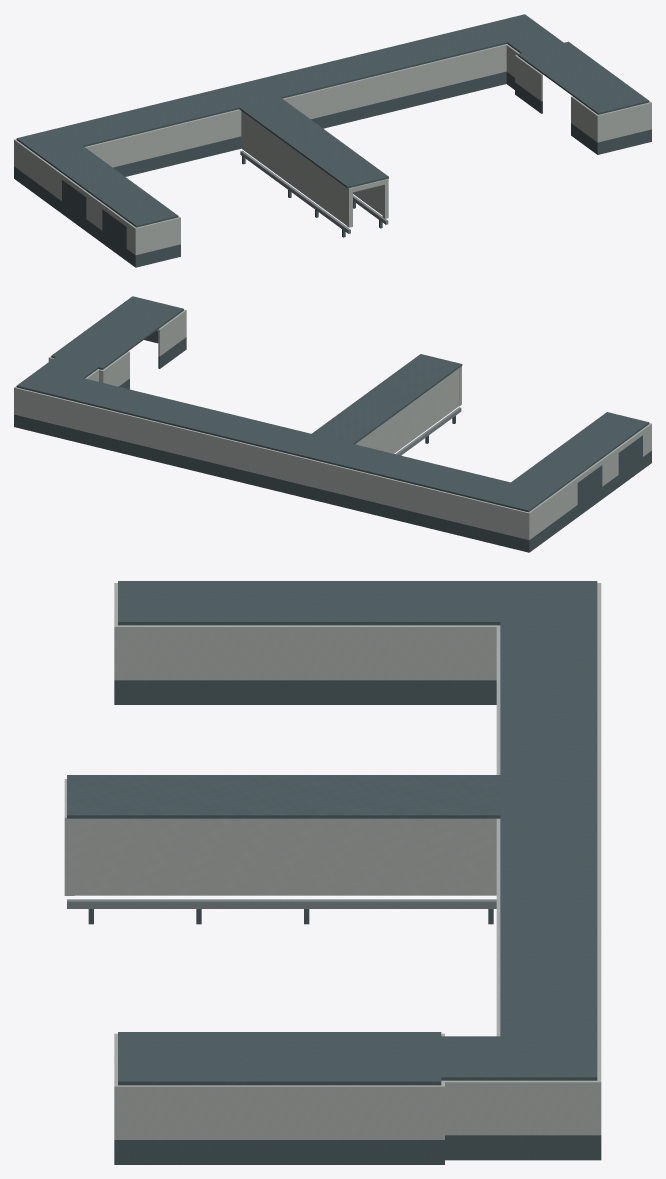
The model's file is AST-RES-TIDAL_D16_guarded_shaft_receiving_r001.glb.
3 renders of one model, top to bottom at view 1: azimuth 30°, elevation 25°; view 2: azimuth 150°, elevation 25°; view 3: azimuth 270°, elevation 25°, orthographic. The views are drawn at different scales.
Visible parts, largest first — view 1: D16_LinkRoof, D16_LinkWall_West, TidalStaffRoof_D16_-3_-62_0, TidalStaffRoof_D16_-8_-63_0, TidalStaffWallHigh_D16_-7_-63_0, TidalStaffWallHigh_D16_-5_-63_0, TidalStaffWallHigh_D16_-4_-63_0, TidalStaffRoof_D16_-7_-63_0, TidalStaffRoof_D16_-5_-63_0, TidalStaffRoof_D16_-4_-63_0, TidalStaffRoof_D16_-6_-63_0, TidalStaffRoof_D16_-8_-62_0 (+21 smaller); view 2: D16_LinkRoof, TidalStaffWallHigh_D16_-8_-63_1, D16_LinkWall_West, TidalStaffRoof_D16_-3_-62_0, TidalStaffRoof_D16_-8_-63_0, TidalStaffWallHigh_D16_-5_-63_1, TidalStaffWallHigh_D16_-4_-63_1, TidalStaffWallHigh_D16_-7_-63_1, screen_wall_staff_white_paint_D16_-6_-63, TidalStaffRoof_D16_-5_-63_0, TidalStaffRoof_D16_-6_-63_0, TidalStaffRoof_D16_-7_-63_0 (+19 smaller); view 3: D16_LinkWall_East, D16_LinkRoof, TidalStaffWallHigh_D16_-8_-62_0, TidalStaffWallHigh_D16_-3_-62_1, TidalStaffRoof_D16_-3_-62_0, TidalStaffRoof_D16_-8_-63_0, TidalStaffRoof_D16_-8_-62_0, TidalStaffWallHigh_D16_-3_-63_1, TidalStaffRoof_D16_-7_-63_0, TidalStaffRoof_D16_-6_-63_0, TidalStaffRoof_D16_-5_-63_0, TidalStaffRoof_D16_-4_-63_0 (+13 smaller).
Part boxes in pixels (x1,y1,x2,y2): D16_LinkRoof: [239, 97, 388, 188]; D16_LinkWall_West: [241, 111, 346, 225]; TidalStaffRoof_D16_-3_-62_0: [517, 41, 621, 94]; TidalStaffRoof_D16_-8_-63_0: [16, 119, 119, 168]; TidalStaffWallHigh_D16_-7_-63_0: [120, 115, 214, 165]; TidalStaffWallHigh_D16_-5_-63_0: [307, 70, 400, 119]; TidalStaffWallHigh_D16_-4_-63_0: [400, 47, 493, 97]; TidalStaffRoof_D16_-7_-63_0: [96, 96, 213, 138]; TidalStaffRoof_D16_-5_-63_0: [283, 50, 399, 92]; TidalStaffRoof_D16_-4_-63_0: [376, 28, 493, 69]; TidalStaffRoof_D16_-6_-63_0: [189, 73, 306, 115]; TidalStaffRoof_D16_-8_-62_0: [55, 156, 150, 207]; D16_LinkRoof: [312, 354, 462, 444]; TidalStaffWallHigh_D16_-8_-63_1: [448, 483, 569, 540]; D16_LinkWall_West: [355, 368, 459, 453]; TidalStaffRoof_D16_-3_-62_0: [51, 316, 156, 369]; TidalStaffRoof_D16_-8_-63_0: [448, 471, 567, 512]; TidalStaffWallHigh_D16_-5_-63_1: [166, 424, 260, 474]; TidalStaffWallHigh_D16_-4_-63_1: [72, 401, 166, 451]; TidalStaffWallHigh_D16_-7_-63_1: [354, 470, 448, 520]; screen_wall_staff_white_paint_D16_-6_-63: [260, 447, 354, 497]; TidalStaffRoof_D16_-5_-63_0: [167, 404, 284, 446]; TidalStaffRoof_D16_-6_-63_0: [261, 427, 378, 469]; TidalStaffRoof_D16_-7_-63_0: [355, 450, 472, 492]; D16_LinkWall_East: [74, 818, 496, 895]; D16_LinkRoof: [67, 775, 500, 818]; TidalStaffWallHigh_D16_-8_-62_0: [225, 625, 441, 680]; TidalStaffWallHigh_D16_-3_-62_1: [225, 1085, 441, 1139]; TidalStaffRoof_D16_-3_-62_0: [225, 1032, 441, 1085]; TidalStaffRoof_D16_-8_-63_0: [441, 581, 597, 658]; TidalStaffRoof_D16_-8_-62_0: [225, 581, 441, 625]; TidalStaffWallHigh_D16_-3_-63_1: [441, 1026, 601, 1139]; TidalStaffRoof_D16_-7_-63_0: [500, 658, 597, 749]; TidalStaffRoof_D16_-6_-63_0: [500, 749, 597, 840]; TidalStaffRoof_D16_-5_-63_0: [500, 840, 597, 931]; TidalStaffRoof_D16_-4_-63_0: [500, 931, 597, 1022].
Bounding box in the file's own units: 44.28 × 4.5 × 19.92.
4 materials, 4 textured.
